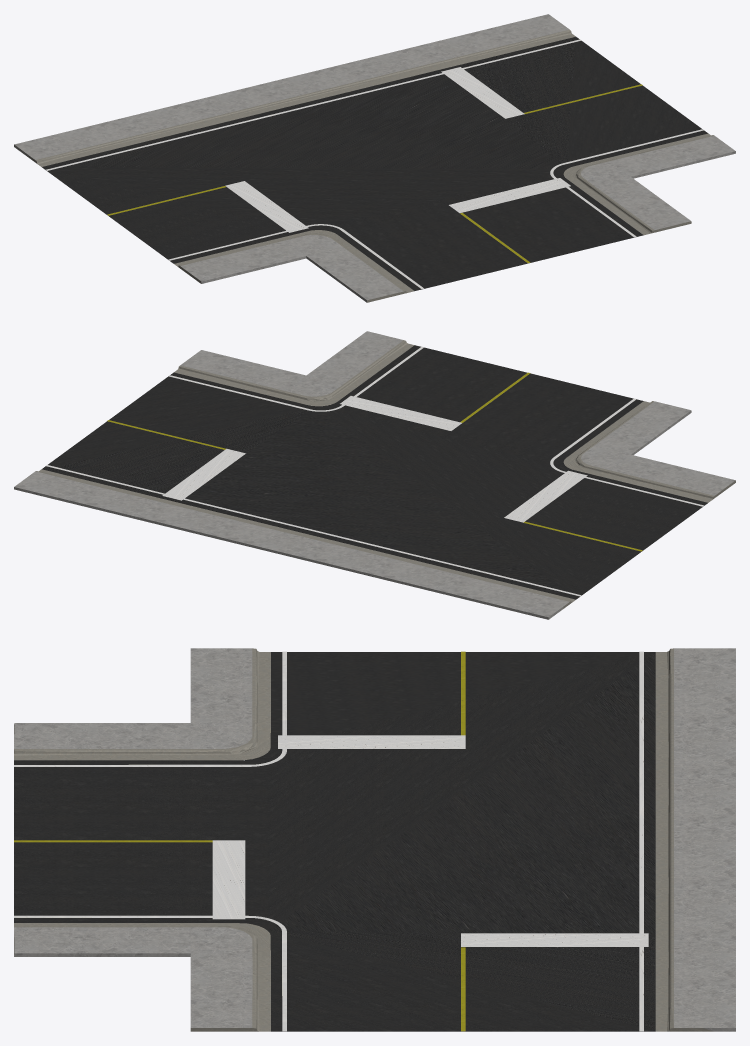
The model's file is 3way.fbx.
3 views of the same model, one above another, from view 1: azimuth 30°, elevation 25°; view 2: azimuth 150°, elevation 25°; view 3: azimuth 270°, elevation 25° (orthographic). The views are drawn at different scales.
Parts seen in each view (by area): view 1: general_street_3_way_w_sidewalk; view 2: general_street_3_way_w_sidewalk; view 3: general_street_3_way_w_sidewalk.
Boxes of the visible parts, x1=… form: general_street_3_way_w_sidewalk: x1=14, y1=14, x2=735, y2=302; general_street_3_way_w_sidewalk: x1=14, y1=331, x2=735, y2=619; general_street_3_way_w_sidewalk: x1=14, y1=648, x2=735, y2=1031.
Bounding box in the file's own units: 3360 × 15.47 × 2700.
Materials: 2 (2 with a texture image).
